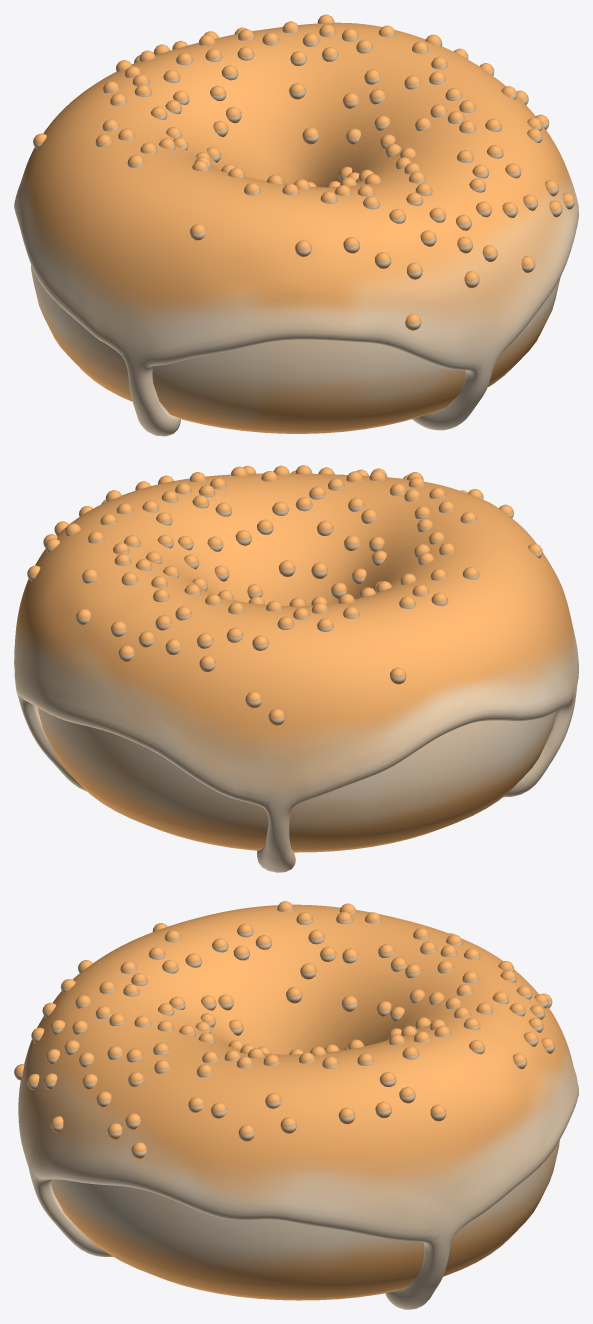
The model's file is nateroid.glb.
3 views of the same model, one above another, from view 1: azimuth 30°, elevation 25°; view 2: azimuth 150°, elevation 25°; view 3: azimuth 270°, elevation 25° (orthographic).
Visible parts, largest first — view 1: sphere sprinkle icing.002, sphere sprinkle donut.002; view 2: sphere sprinkle icing.002, sphere sprinkle donut.002; view 3: sphere sprinkle icing.002, sphere sprinkle donut.002.
Part boxes in pixels (box(x1,y1,x2,y2)): sphere sprinkle icing.002: box(14, 14, 578, 436); sphere sprinkle donut.002: box(31, 265, 560, 433); sphere sprinkle icing.002: box(14, 465, 578, 872); sphere sprinkle donut.002: box(37, 707, 555, 852); sphere sprinkle icing.002: box(14, 901, 578, 1309); sphere sprinkle donut.002: box(51, 1140, 559, 1300).
Size of the model in its own units: 0.1285 by 0.0656 by 0.1289.
1 material, 1 textured.
